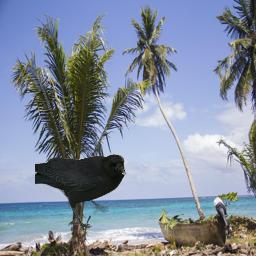Crow: (35, 154, 126, 230)
